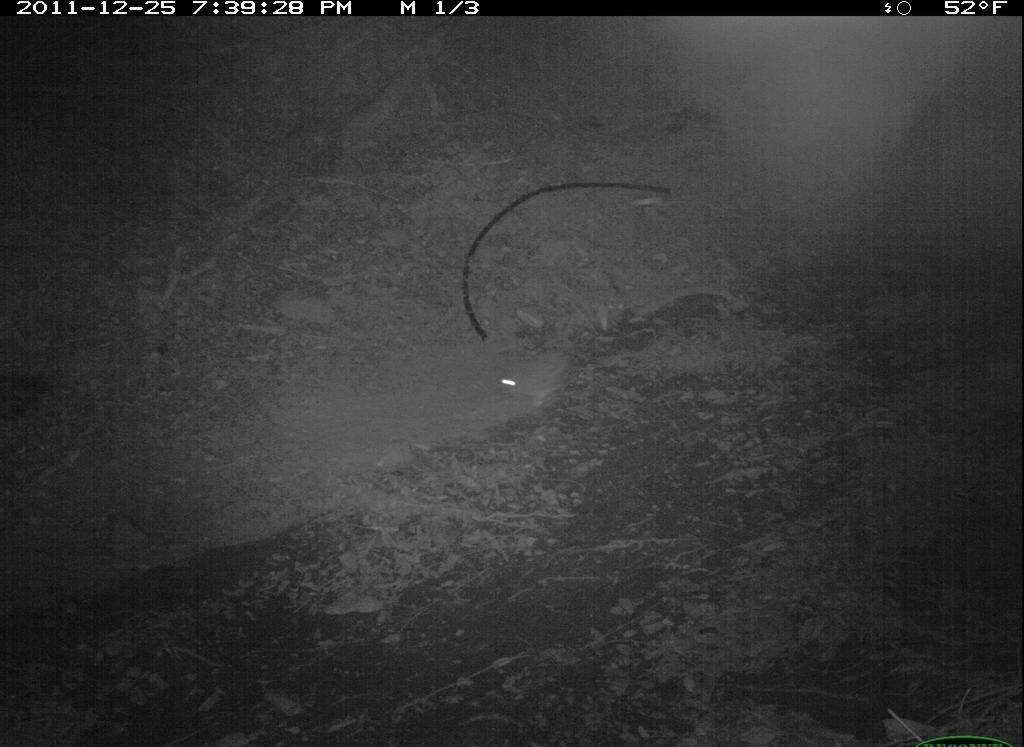rabbit: (486, 337, 596, 415)
